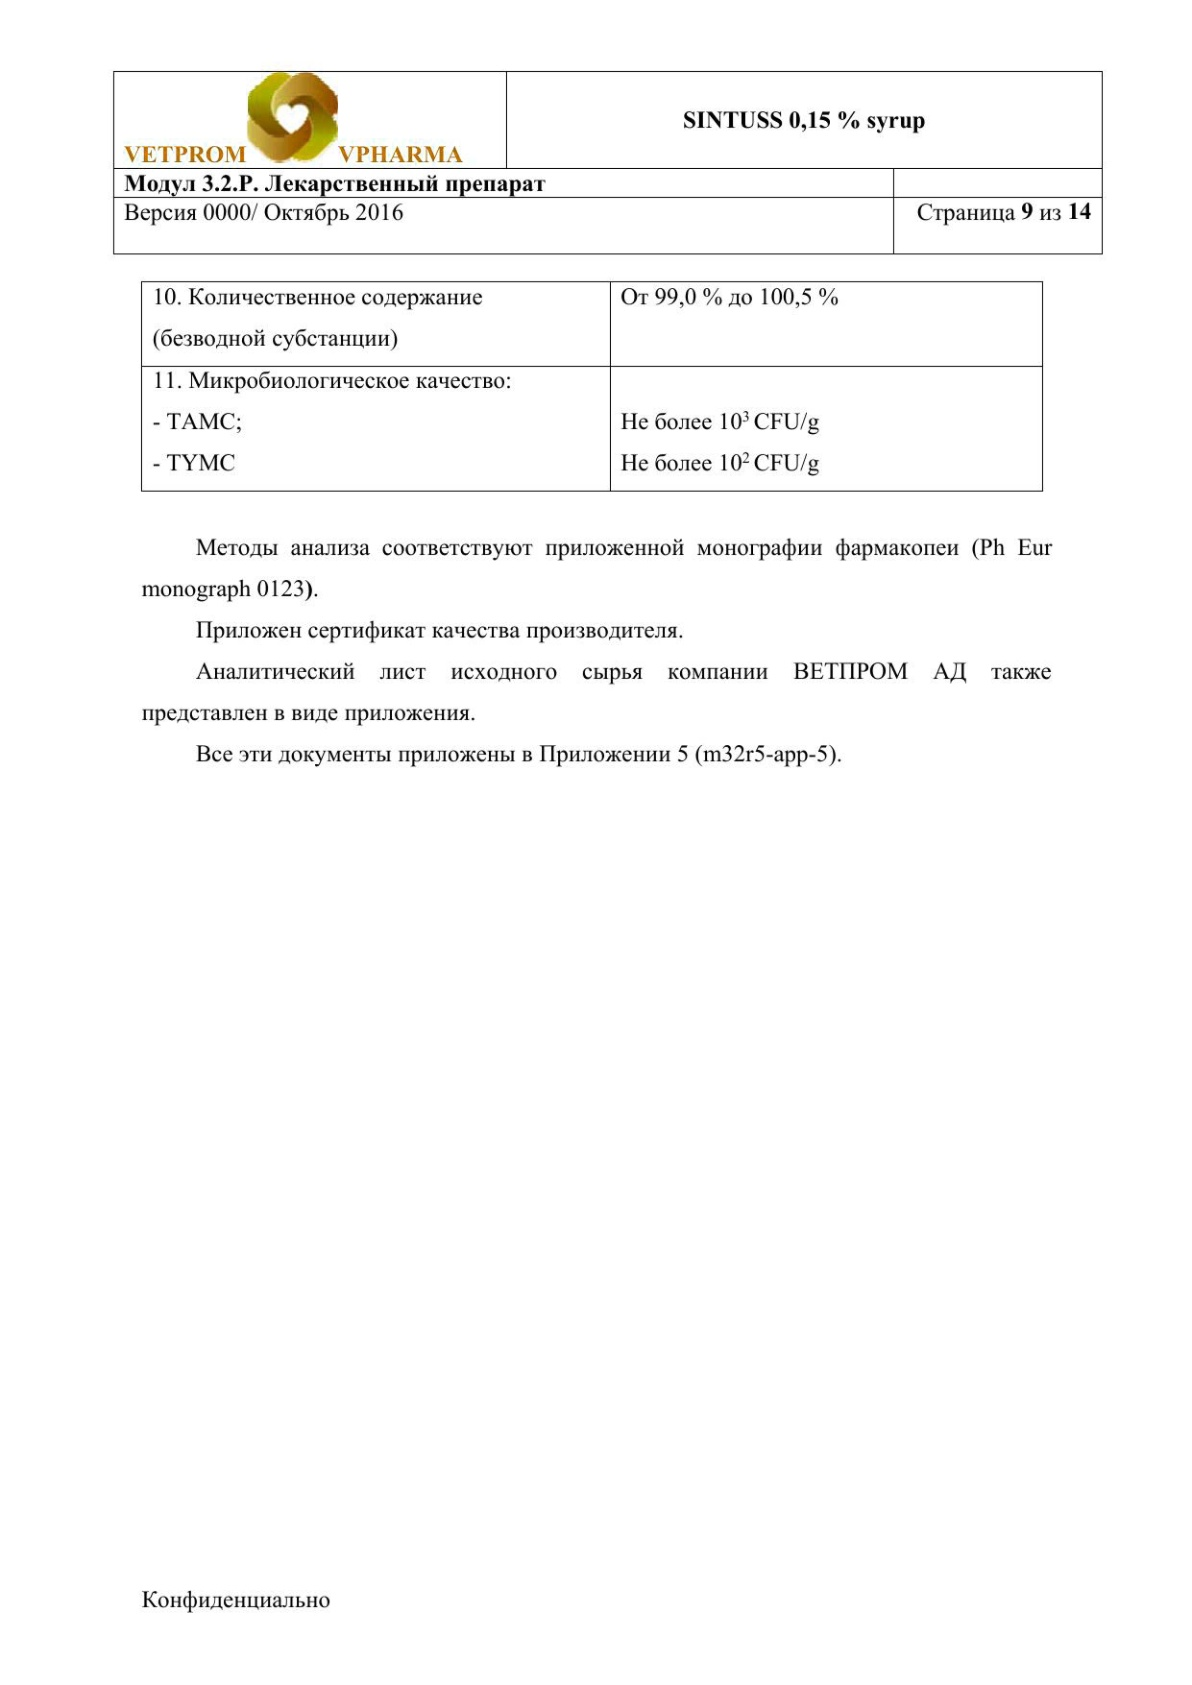full_lined: (139, 279, 1044, 490)
merged_cells: (111, 68, 1106, 255)
